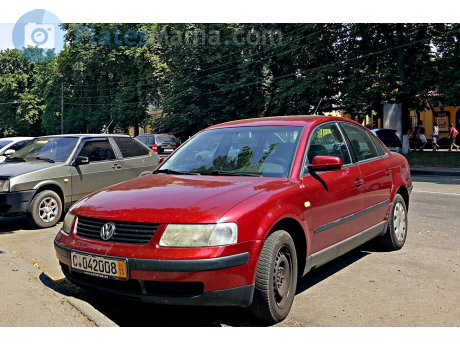License Plates: (71, 249, 118, 272)
